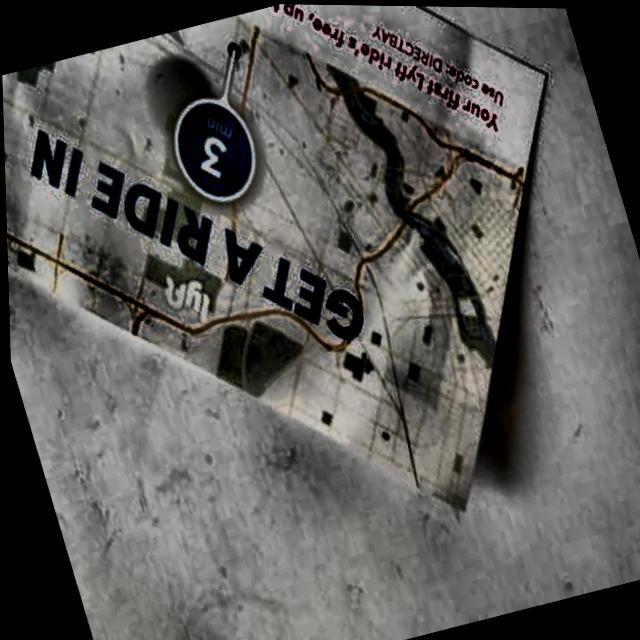Paper: (0, 0, 640, 620)
